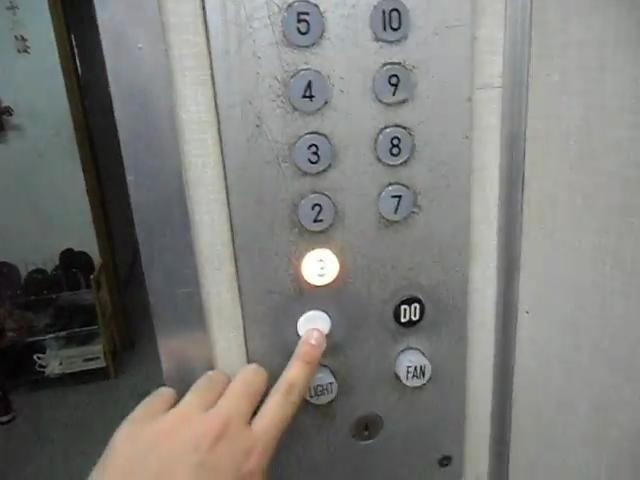10: (369, 1, 411, 40)
2: (298, 192, 335, 232)
3: (293, 132, 332, 174)
4: (286, 68, 329, 113)
5: (280, 1, 325, 47)
7: (378, 183, 413, 221)
8: (375, 123, 414, 166)
9: (372, 60, 413, 106)
DO: (392, 293, 425, 328)
blur: (299, 247, 340, 286)
empty: (296, 309, 332, 342)
text_FAN: (394, 348, 433, 389)
text_light: (299, 367, 337, 404)
